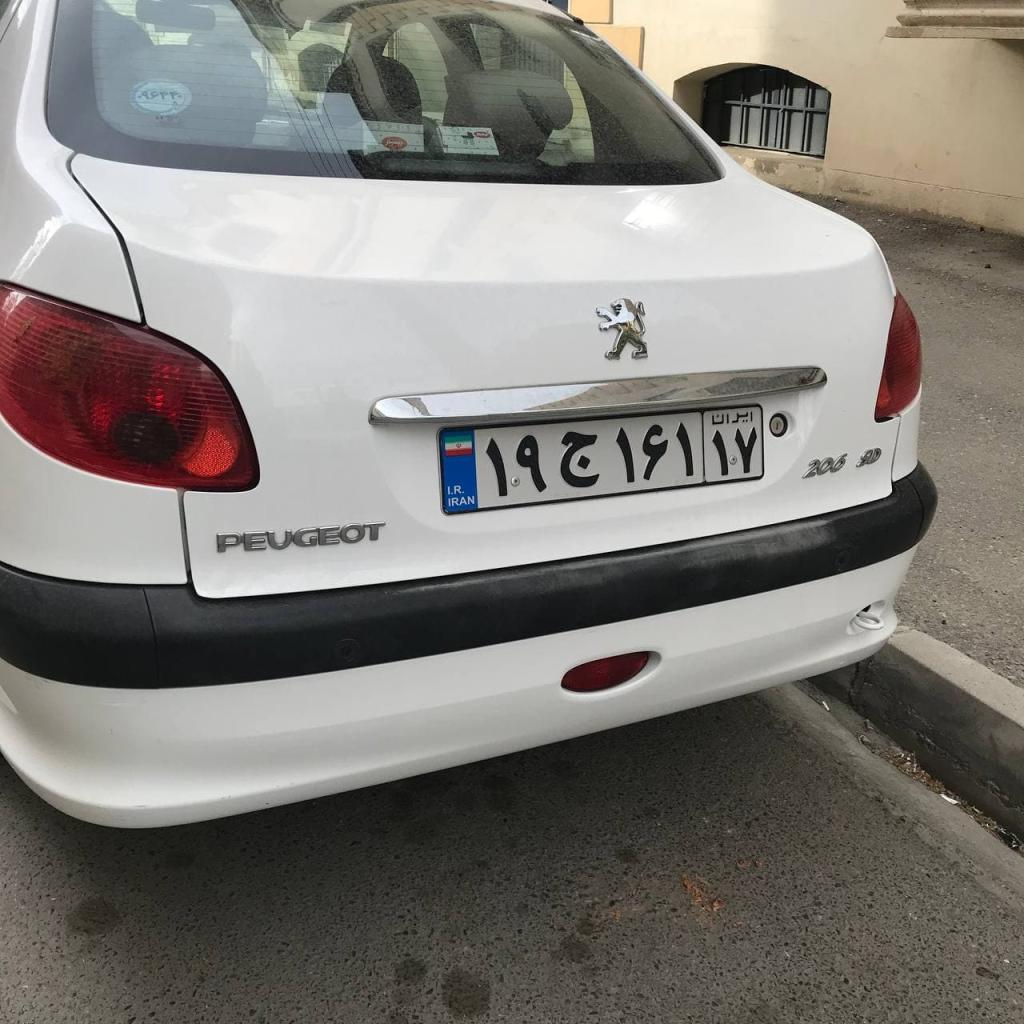Plates: (438, 405, 764, 514)
